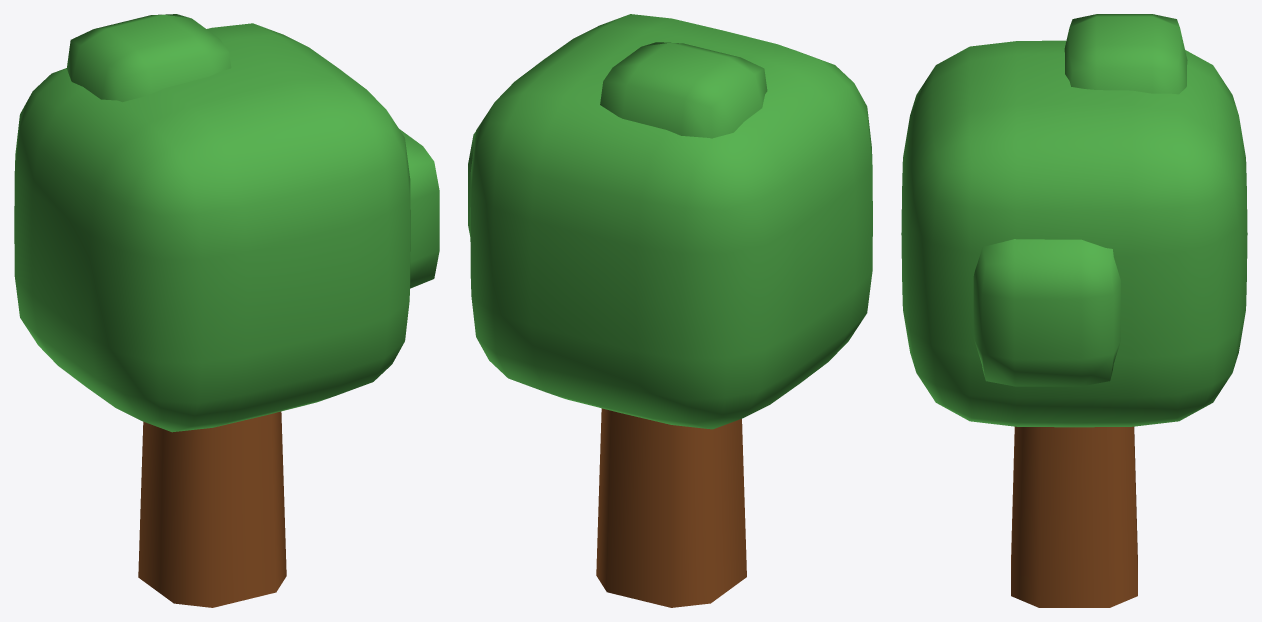
Rendered from tree03_s01.FBX.
The picture shows the model from 3 angles, left to right: view 1: azimuth 30°, elevation 25°; view 2: azimuth 150°, elevation 25°; view 3: azimuth 270°, elevation 25°; orthographic projection. The views are drawn at different scales.
Parts seen in each view (by area): view 1: tree03_s01; view 2: tree03_s01; view 3: tree03_s01.
Boxes of the visible parts, x1,y1,x2,y2 form: tree03_s01: (14, 14, 439, 607); tree03_s01: (468, 14, 872, 607); tree03_s01: (901, 14, 1247, 607).
Bounding box in the file's own units: 173 × 152 × 258.
Materials: 1 (1 with a texture image).
